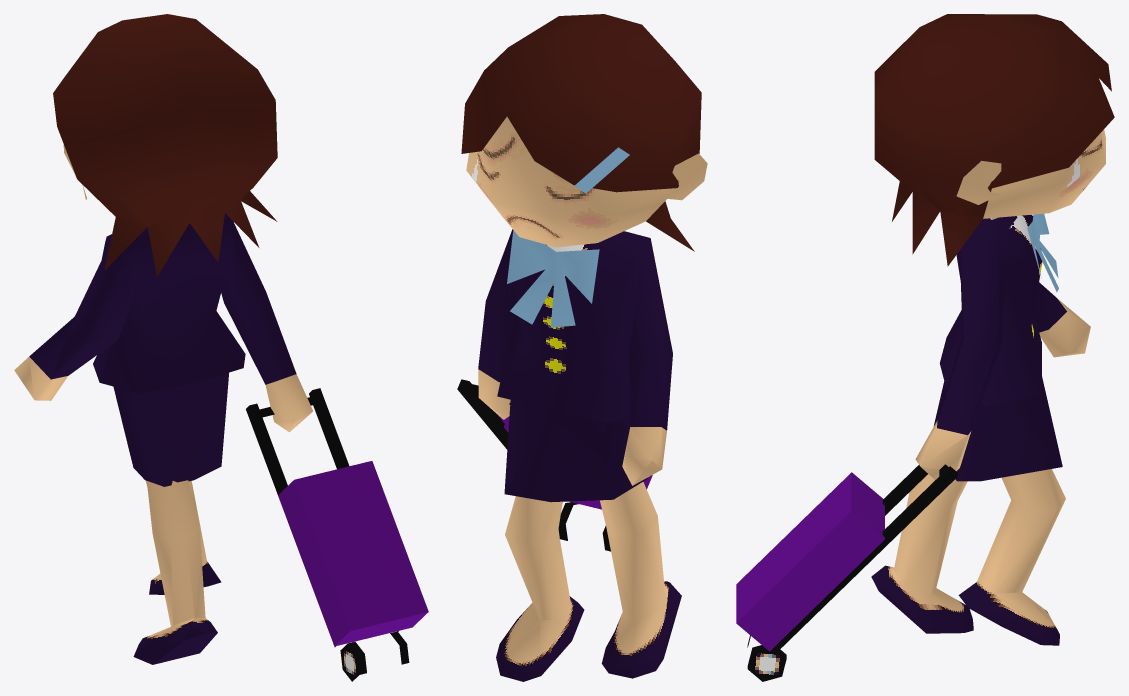
The model's file is ps2_save-icons_jetdego2.glb.
3 renders of one model, left to right at view 1: azimuth 30°, elevation 25°; view 2: azimuth 150°, elevation 25°; view 3: azimuth 270°, elevation 25°, orthographic. The views are drawn at different scales.
Parts seen in each view (by area): view 1: sorat.ico; view 2: sorat.ico; view 3: sorat.ico.
Boxes of the visible parts, x1,y1,x2,y2 form: sorat.ico: (14, 14, 428, 681); sorat.ico: (457, 14, 707, 681); sorat.ico: (736, 14, 1114, 681).
Size of the model in its own units: 1.6 by 3.77 by 2.09.
1 material, 1 textured.
